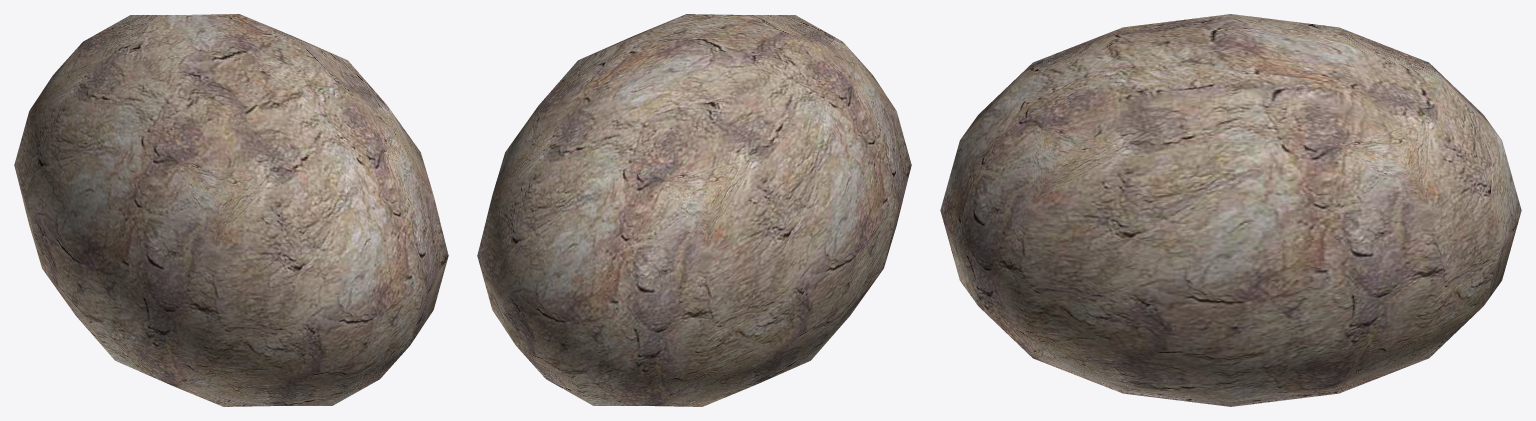
File: stone_03.fbx
3 views of the same model, side by side, from view 1: azimuth 30°, elevation 25°; view 2: azimuth 150°, elevation 25°; view 3: azimuth 270°, elevation 25° (orthographic). The views are drawn at different scales.
Parts seen in each view (by area): view 1: pCube6; view 2: pCube6; view 3: pCube6.
Part boxes in pixels (x1,y1,x2,y2): pCube6: (14,14,448,406); pCube6: (477,14,911,406); pCube6: (940,14,1521,406).
Size of the model in its own units: 1.2 by 1.2 by 1.79.
